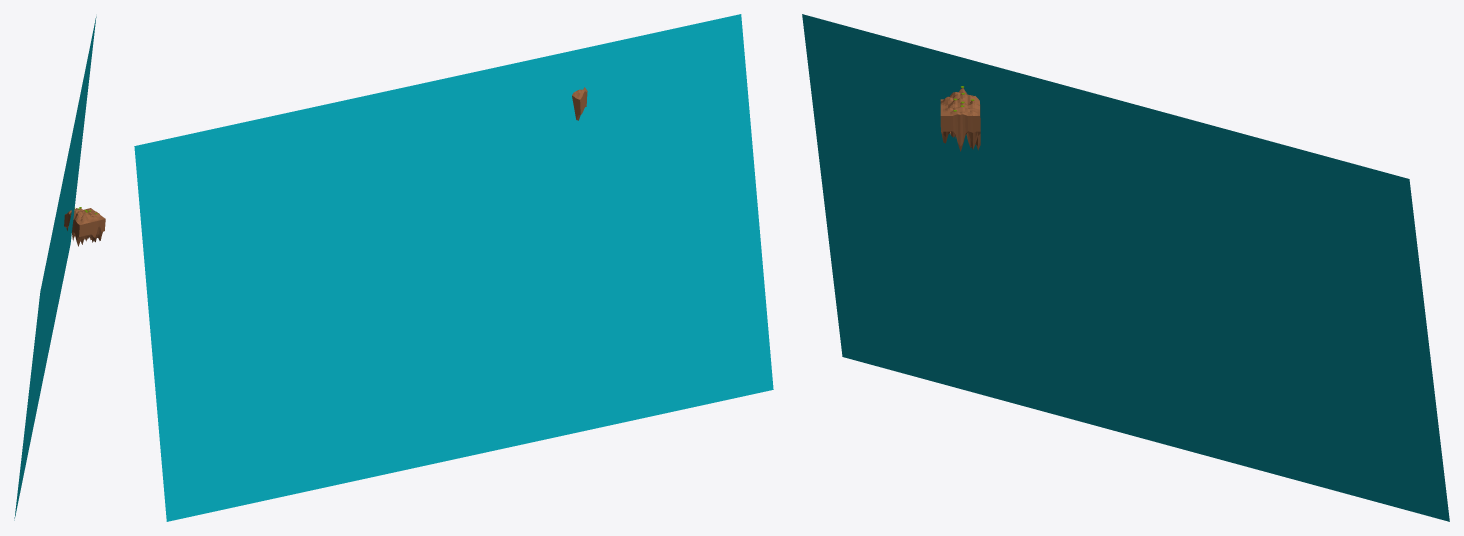
Rendered from maplvl.fbx.
3 views of the same model, side by side, from view 1: azimuth 30°, elevation 25°; view 2: azimuth 150°, elevation 25°; view 3: azimuth 270°, elevation 25° (orthographic). The views are drawn at different scales.
Parts seen in each view (by area): view 1: Plane, Terreno; view 2: Plane; view 3: Plane, Terreno.
Part boxes in pixels (<box>): Plane: <box>14,16,96,520</box>; Terreno: <box>64,208,105,246</box>; Plane: <box>134,14,773,521</box>; Plane: <box>802,14,1449,521</box>; Terreno: <box>940,88,980,151</box>.
Bounding box in the file's own units: 187 × 169 × 268.
